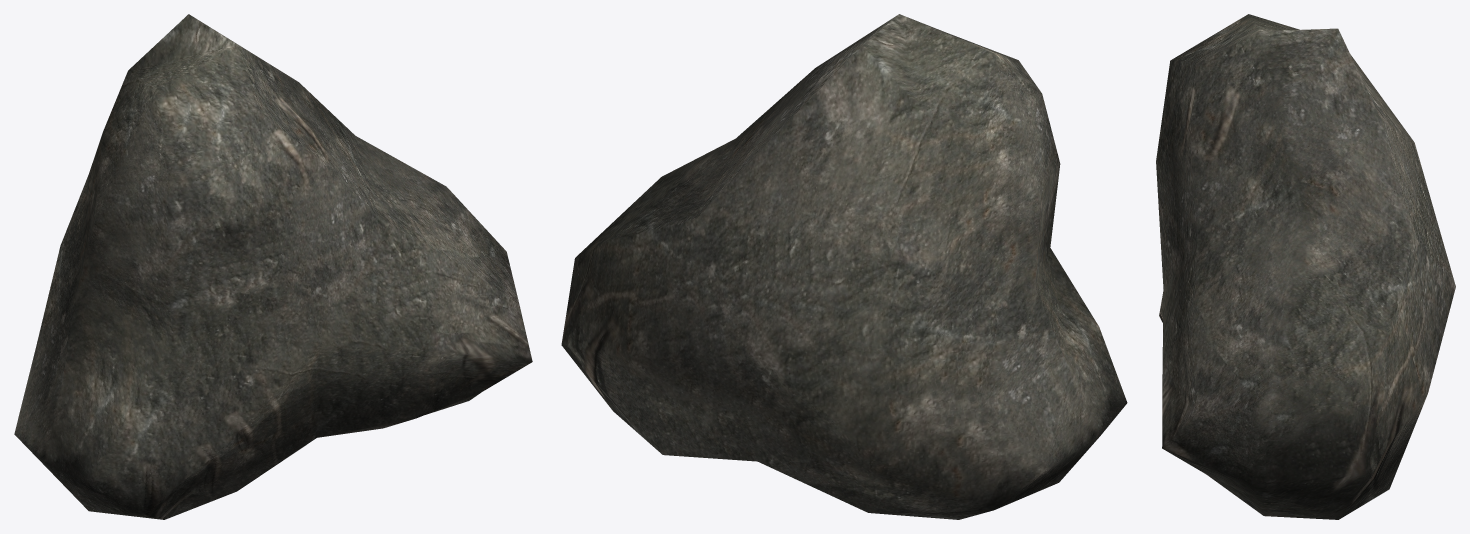
Rendered from Rock 7.FBX.
The picture shows the model from 3 angles, left to right: view 1: azimuth 30°, elevation 25°; view 2: azimuth 150°, elevation 25°; view 3: azimuth 270°, elevation 25°; orthographic projection. The views are drawn at different scales.
Visible parts, largest first — view 1: rock07; view 2: rock07; view 3: rock07.
Boxes of the visible parts, box(x1,y1,x2,y2) form: rock07: box(14, 14, 532, 519); rock07: box(561, 14, 1127, 519); rock07: box(1156, 14, 1455, 519).
Size of the model in its own units: 323 by 289 by 192.
Materials: 1 (1 with a texture image).
